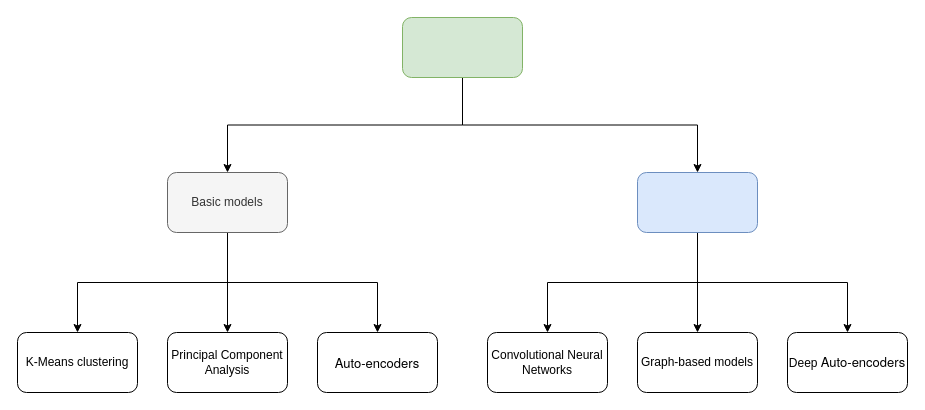
This 925x410 diagram has some shape labels left out. Here are the shapes that lost their labels. From the top down, the centre of each, then its label:
At (462,47): "Unsupervised models".
At (697,202): "Advanced models".
